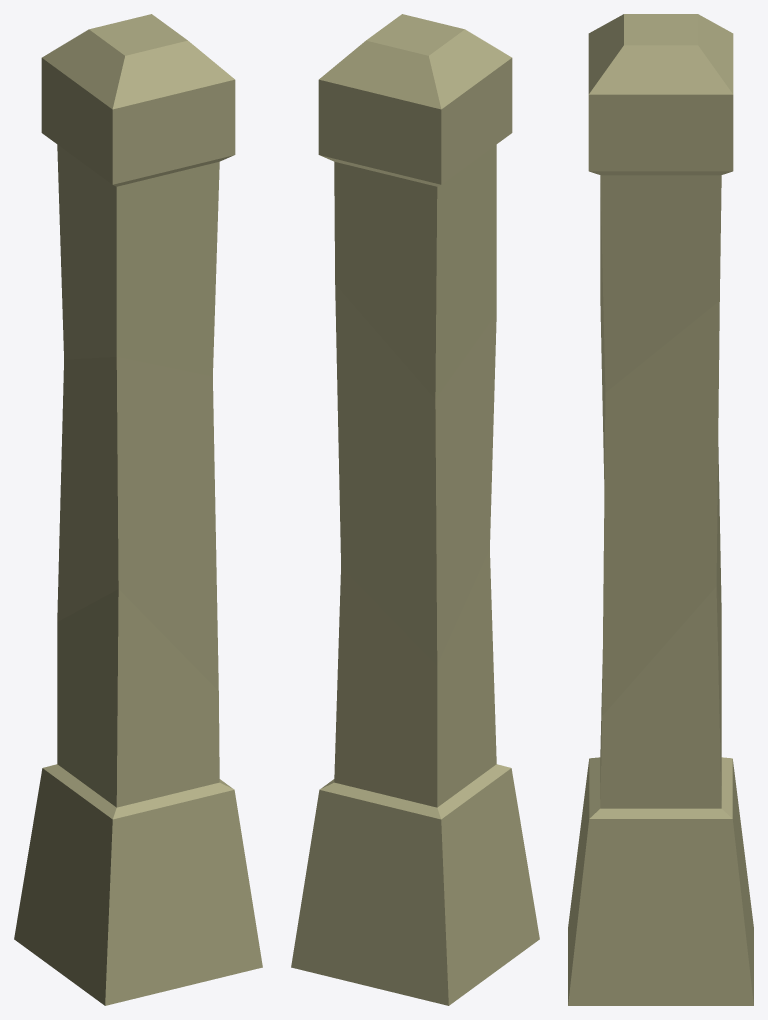
Rendered from fence_column_big_mat.fbx.
The picture shows the model from 3 angles, left to right: view 1: azimuth 30°, elevation 25°; view 2: azimuth 150°, elevation 25°; view 3: azimuth 270°, elevation 25°; orthographic projection. The views are drawn at different scales.
Visible parts, largest first — view 1: fence_column_big_mat; view 2: fence_column_big_mat; view 3: fence_column_big_mat.
Part boxes in pixels (x1,y1,x2,y2): fence_column_big_mat: (14,14,262,1005); fence_column_big_mat: (291,14,539,1005); fence_column_big_mat: (568,14,753,1005).
Size of the model in its own units: 182 by 1015 by 182.
